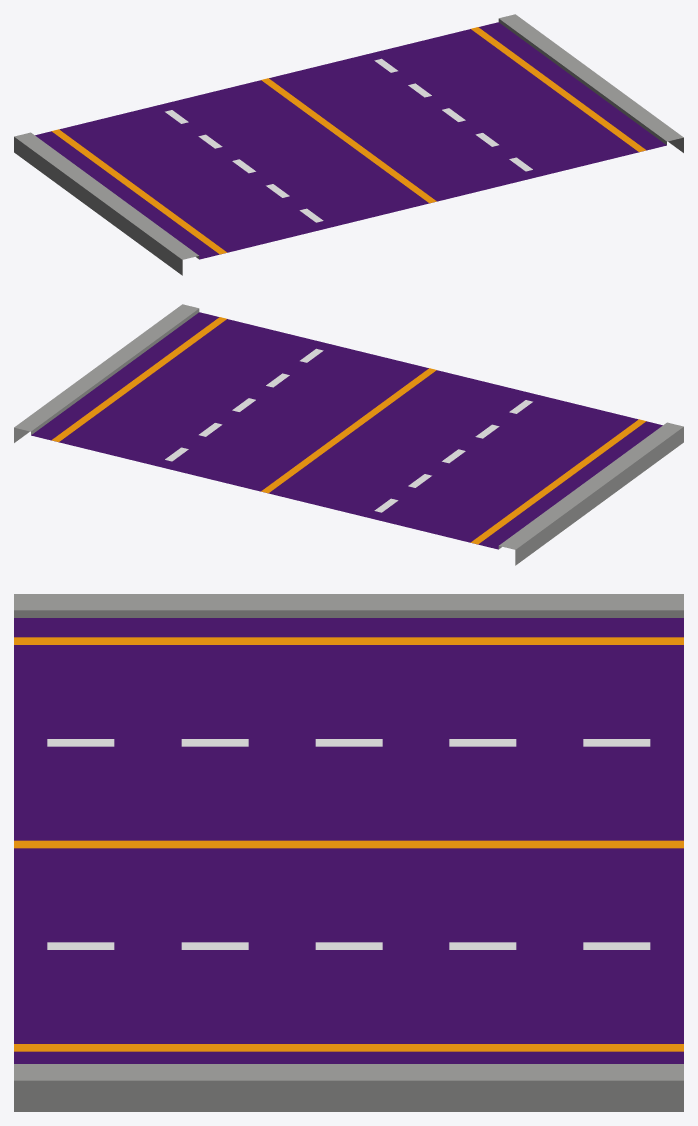
The model's file is Road_C_2L_2_1.fbx.
3 views of the same model, one above another, from view 1: azimuth 30°, elevation 25°; view 2: azimuth 150°, elevation 25°; view 3: azimuth 270°, elevation 25° (orthographic). The views are drawn at different scales.
Parts seen in each view (by area): view 1: Road_C_2L_2_1; view 2: Road_C_2L_2_1; view 3: Road_C_2L_2_1.
Boxes of the visible parts, x1,y1,x2,y2 form: Road_C_2L_2_1: [14, 14, 683, 275]; Road_C_2L_2_1: [14, 304, 683, 565]; Road_C_2L_2_1: [14, 594, 683, 1111].
Bounding box in the file's own units: 1375 × 41.48 × 800.
